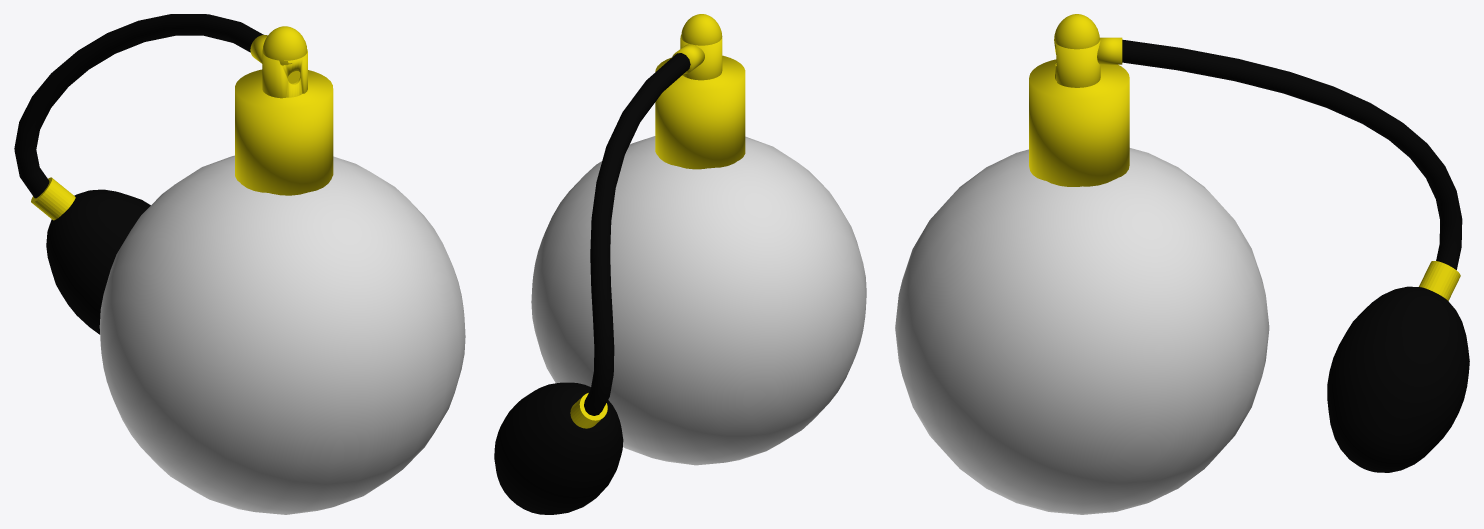
The model's file is PerfumeBottle.fbx.
3 renders of one model, left to right at view 1: azimuth 30°, elevation 25°; view 2: azimuth 150°, elevation 25°; view 3: azimuth 270°, elevation 25°, orthographic. The views are drawn at different scales.
Parts seen in each view (by area): view 1: Sphere; view 2: Sphere; view 3: Sphere.
Boxes of the visible parts, x1=… form: Sphere: x1=14, y1=14, x2=465, y2=514; Sphere: x1=494, y1=14, x2=866, y2=514; Sphere: x1=895, y1=14, x2=1469, y2=514.
Size of the model in its own units: 131 by 187 by 202.
